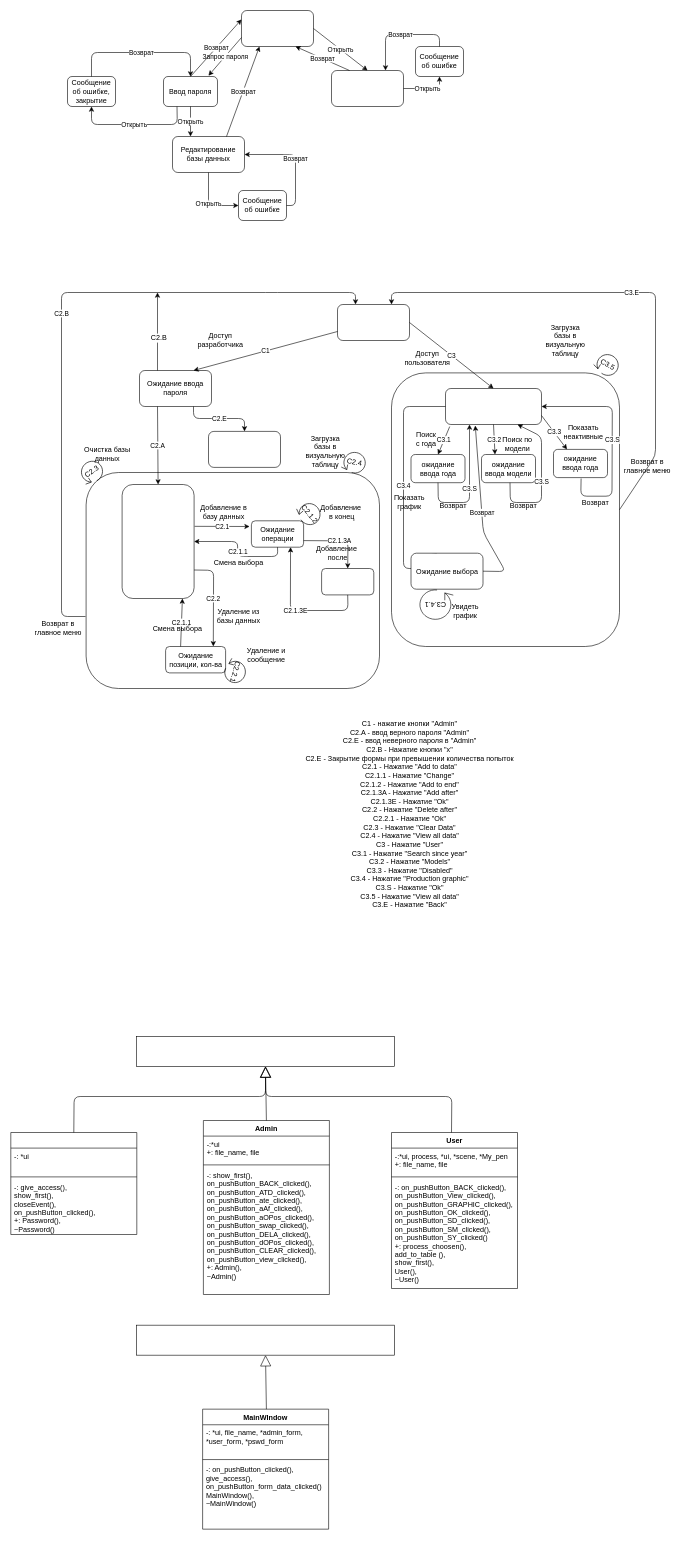
This 685x1541 diagram has some shape labels left out. The box of each missing label's shape, as (x1, y1, x2, y2) in pixels:
QDialog: (136, 1036, 394, 1066)
QMainWindow: (136, 1325, 394, 1355)
Tpassword: (10, 1132, 137, 1234)
Выбор доступа к базе: (337, 304, 410, 340)
Главное меню: (241, 10, 314, 46)
Ожидание ввода позиции: (321, 568, 374, 595)
Ожидание выбора команды: (122, 484, 194, 598)
Ожидание выбора операции: (445, 388, 542, 424)
Ошибка, закрытие приложения: (208, 431, 280, 467)
Работа с базой данных: (331, 70, 404, 106)
